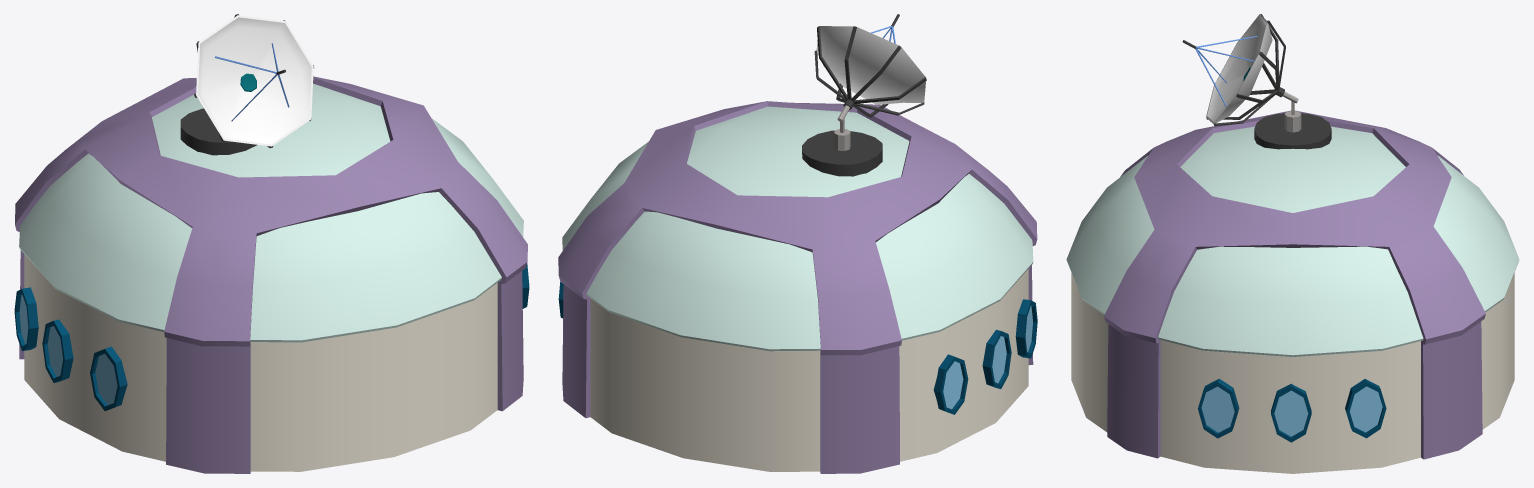
File: Solar_Station.fbx
The picture shows the model from 3 angles, left to right: view 1: azimuth 30°, elevation 25°; view 2: azimuth 150°, elevation 25°; view 3: azimuth 270°, elevation 25°; orthographic projection. The views are drawn at different scales.
Parts seen in each view (by area): view 1: Solar_Station; view 2: Solar_Station; view 3: Solar_Station.
Part boxes in pixels (x1,y1,x2,y2): Solar_Station: (14, 14, 529, 473); Solar_Station: (558, 14, 1037, 473); Solar_Station: (1066, 14, 1519, 473).
Size of the model in its own units: 654 by 652 by 537.
